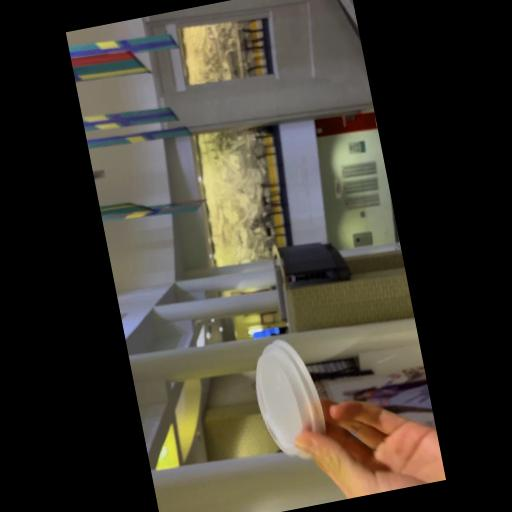lp_cup_lids: (246, 334, 332, 467)
